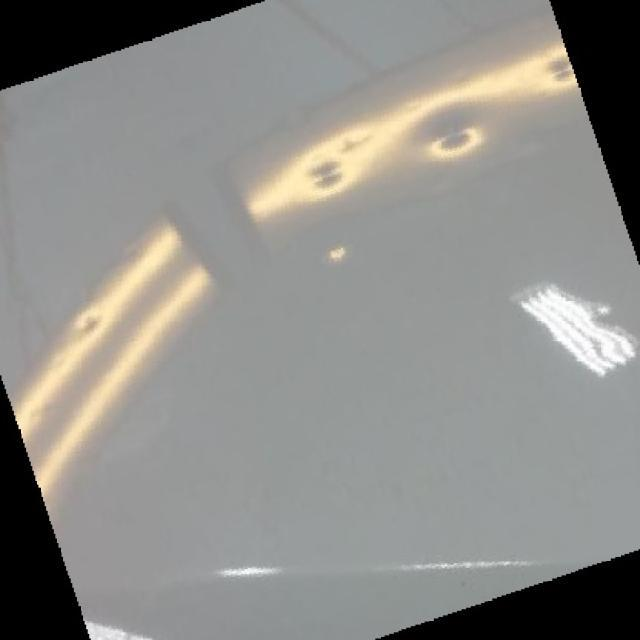dent: (432, 124, 481, 157), (307, 157, 346, 194), (542, 53, 578, 87), (79, 312, 112, 337), (341, 135, 378, 155), (329, 244, 349, 264)
